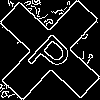P: (25, 25, 80, 81)
